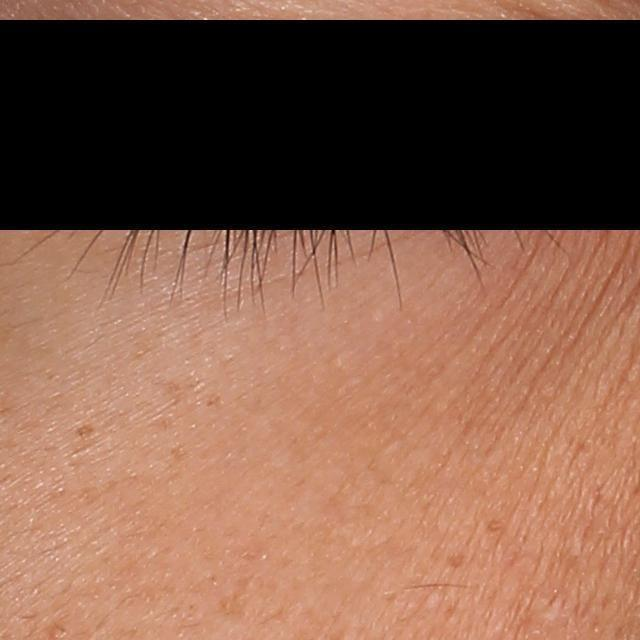melasma: (72, 423, 97, 440)
